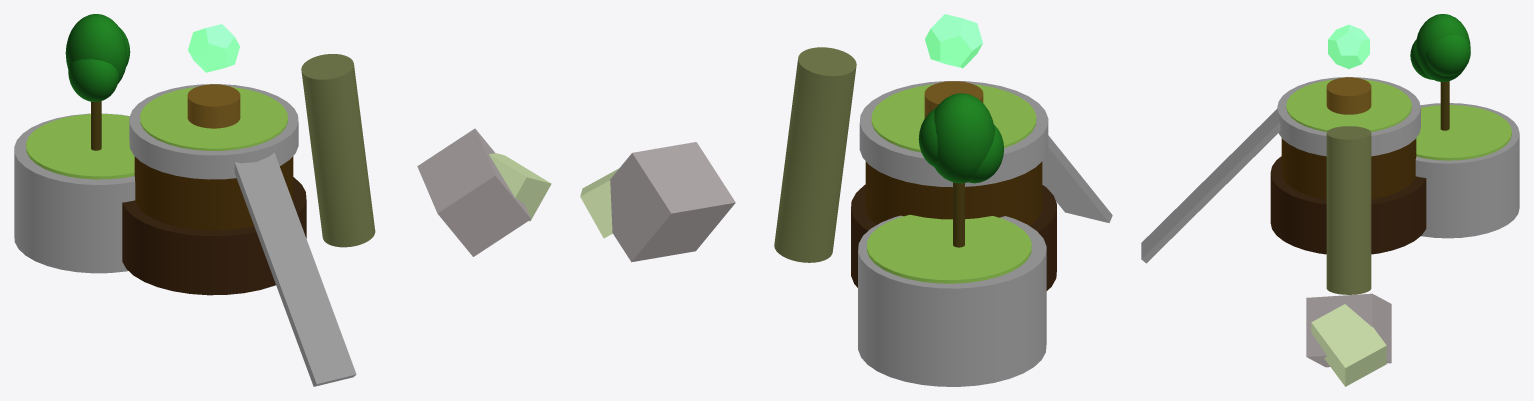
Rendered from map8.glb.
3 views of the same model, side by side, from view 1: azimuth 30°, elevation 25°; view 2: azimuth 150°, elevation 25°; view 3: azimuth 270°, elevation 25° (orthographic). The views are drawn at different scales.
Parts seen in each view (by area): view 1: Cylinder (×9), Box (×3), Sphere (×2), Dodecahedron; view 2: Cylinder (×9), Box (×3), Sphere (×3), Dodecahedron; view 3: Cylinder (×9), Box (×3), Sphere (×2), Dodecahedron.
Part boxes in pixels (x1=…): Cylinder (×9): x1=14, y1=54, x2=375, y2=295; Box (×3): x1=234, y1=128, x2=551, y2=386; Sphere (×2): x1=65, y1=14, x2=127, y2=101; Dodecahedron: x1=188, y1=24, x2=239, y2=72; Cylinder (×9): x1=774, y1=47, x2=1056, y2=386; Box (×3): x1=580, y1=135, x2=1112, y2=262; Sphere (×3): x1=918, y1=93, x2=1003, y2=183; Dodecahedron: x1=925, y1=14, x2=982, y2=68; Cylinder (×9): x1=1270, y1=77, x2=1519, y2=294; Box (×3): x1=1141, y1=109, x2=1391, y2=386; Sphere (×2): x1=1415, y1=14, x2=1470, y2=81; Dodecahedron: x1=1328, y1=24, x2=1369, y2=68.
Size of what is drawn, in the model's own units: 20.31 by 11.71 by 16.87.
